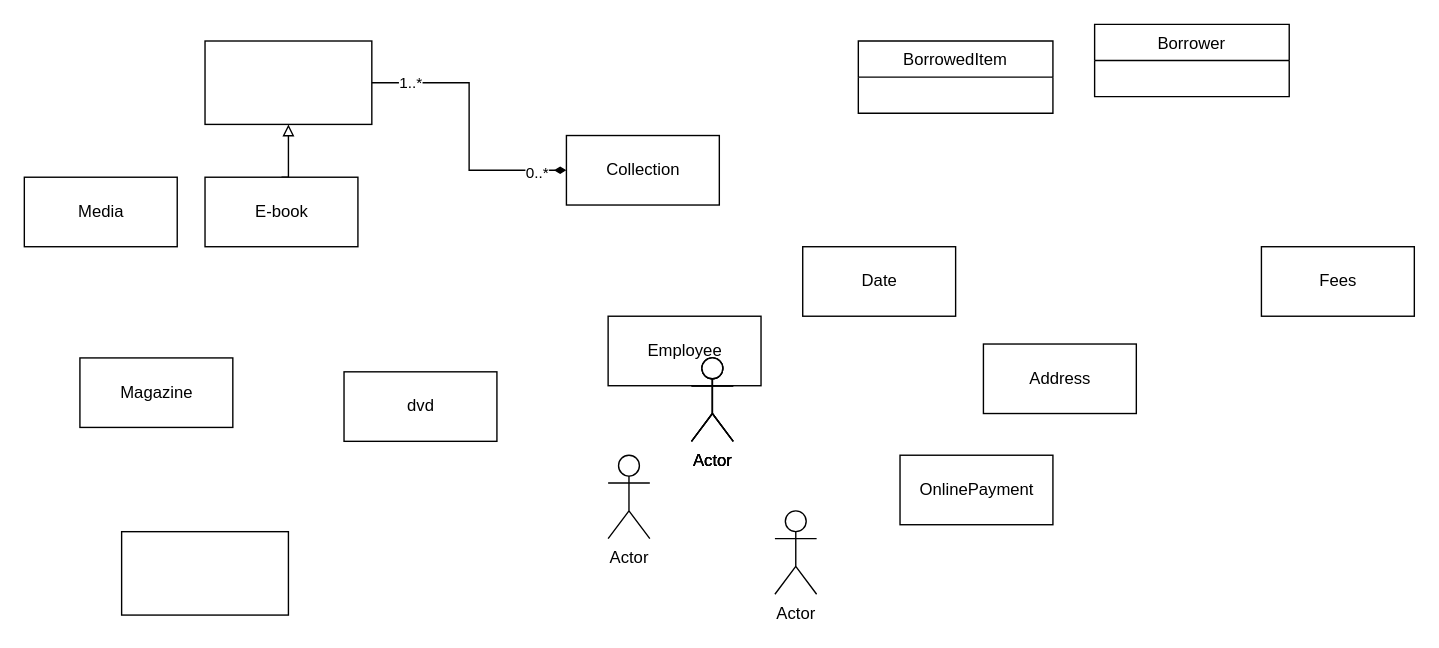
Image size: 1439x648. Some labels were removed from this diagram. Here are the shapes that lost their labels. From the top down, the centre of each, then its label:
(x=288, y=82): Library Item
(x=204, y=572): Book
